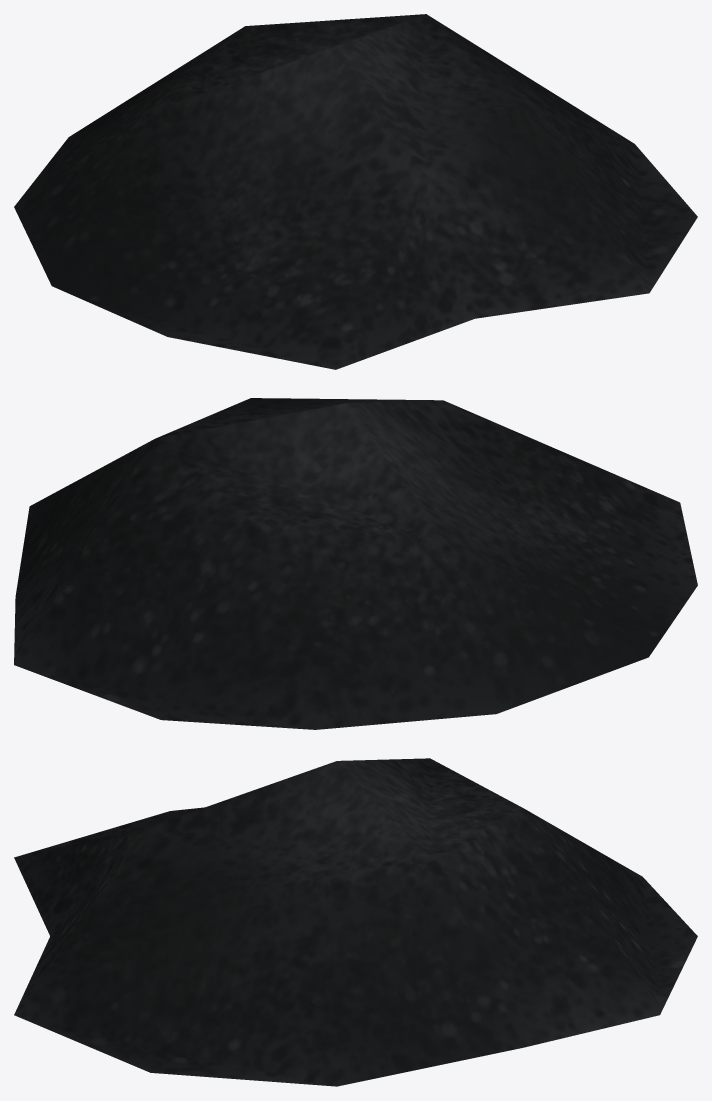
File: S_GunPowder.fbx
3 views of the same model, one above another, from view 1: azimuth 30°, elevation 25°; view 2: azimuth 150°, elevation 25°; view 3: azimuth 270°, elevation 25° (orthographic). The views are drawn at different scales.
Parts seen in each view (by area): view 1: GunPowder; view 2: GunPowder; view 3: GunPowder.
Boxes of the visible parts, box(x1,y1,x2,y2) form: GunPowder: box(14, 14, 697, 369); GunPowder: box(14, 398, 697, 729); GunPowder: box(14, 758, 697, 1086).
Size of the model in its own units: 49.05 by 13.69 by 48.38.
